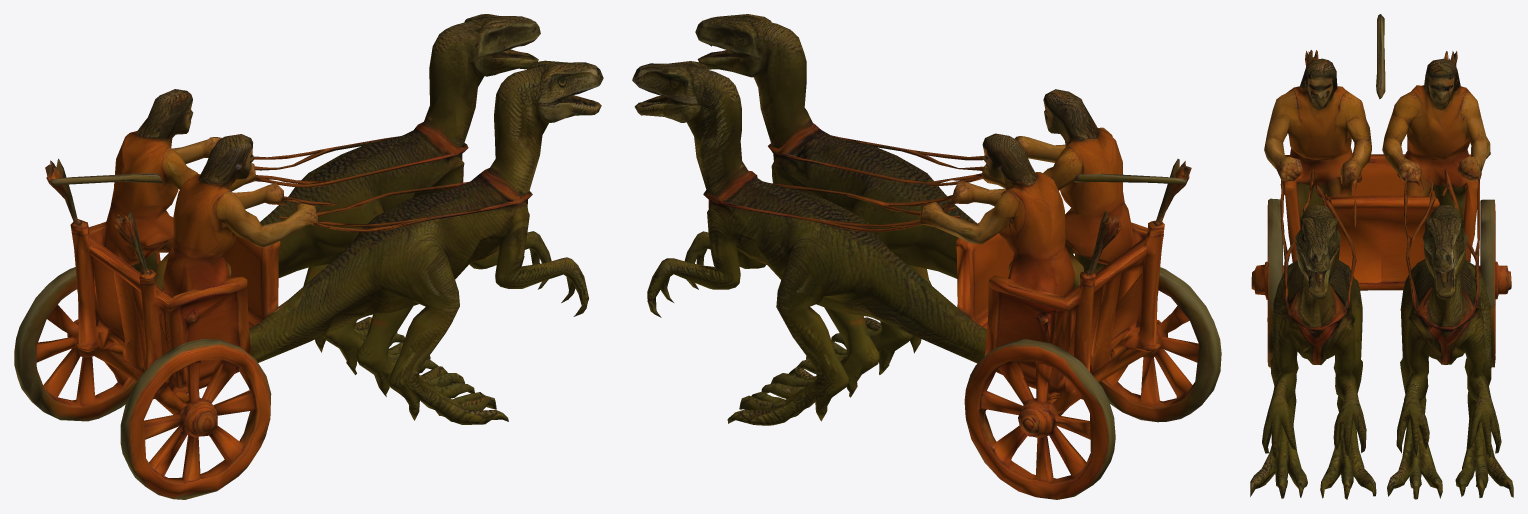
The picture shows the model from 3 angles, left to right: view 1: azimuth 30°, elevation 25°; view 2: azimuth 150°, elevation 25°; view 3: azimuth 270°, elevation 25°; orthographic projection.
Visible parts, largest first — view 1: tripo_node_689d7c7b-8f69-490a-8e38-e8cd9b97ec67; view 2: tripo_node_689d7c7b-8f69-490a-8e38-e8cd9b97ec67; view 3: tripo_node_689d7c7b-8f69-490a-8e38-e8cd9b97ec67.
Part boxes in pixels (<box>): tripo_node_689d7c7b-8f69-490a-8e38-e8cd9b97ec67: <box>14,14,603,499</box>; tripo_node_689d7c7b-8f69-490a-8e38-e8cd9b97ec67: <box>632,14,1221,499</box>; tripo_node_689d7c7b-8f69-490a-8e38-e8cd9b97ec67: <box>1250,14,1513,499</box>.
Bounding box in the file's own units: 0.9979 × 0.6015 × 0.4364.
1 material, 1 textured.
